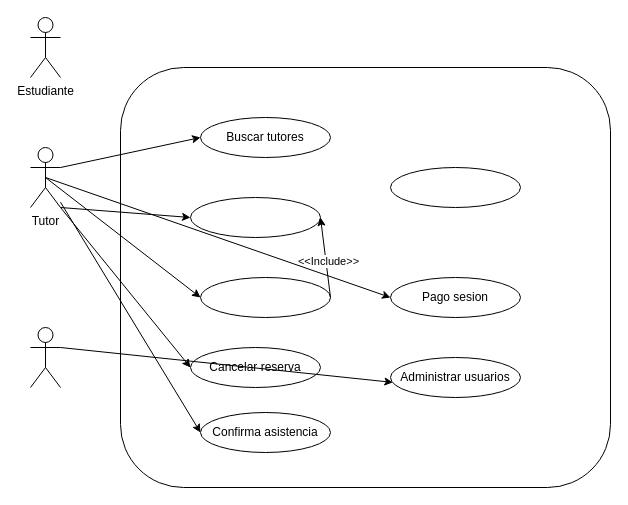
Some shapes in this 628 by 505 pixel diagram are drawn without their labels. The centre of each missing label's shape, as x and y in pixels:
"Admin" goes at [45,357].
"Crear reserva" goes at [265,297].
"Gestionar disponibildades" goes at [455,187].
"Ver disponibilidad" goes at [255,217].
